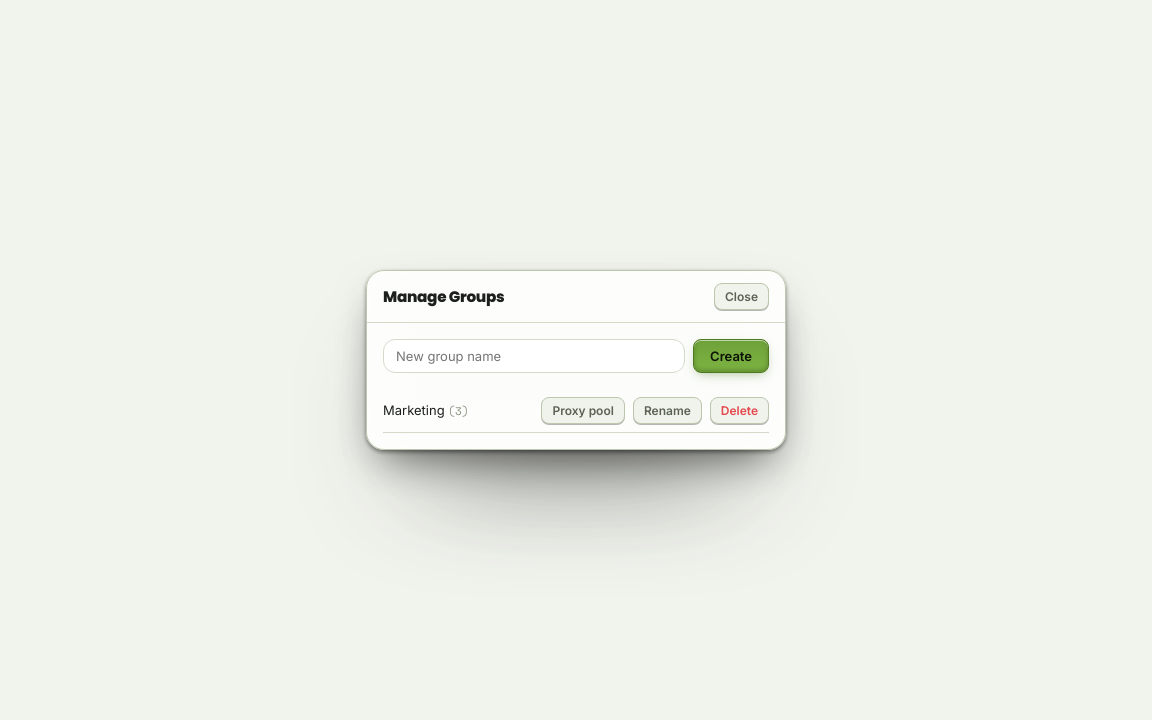
Test: GroupsModal › clicking Rename switches the row to an editable input pre-filled with the current name
The image size is (1152, 720).
What coordinates should you click on to do the following:
click the button "Rename"
I would click on:
 (667, 410)
Its box is [633,397,702,424].
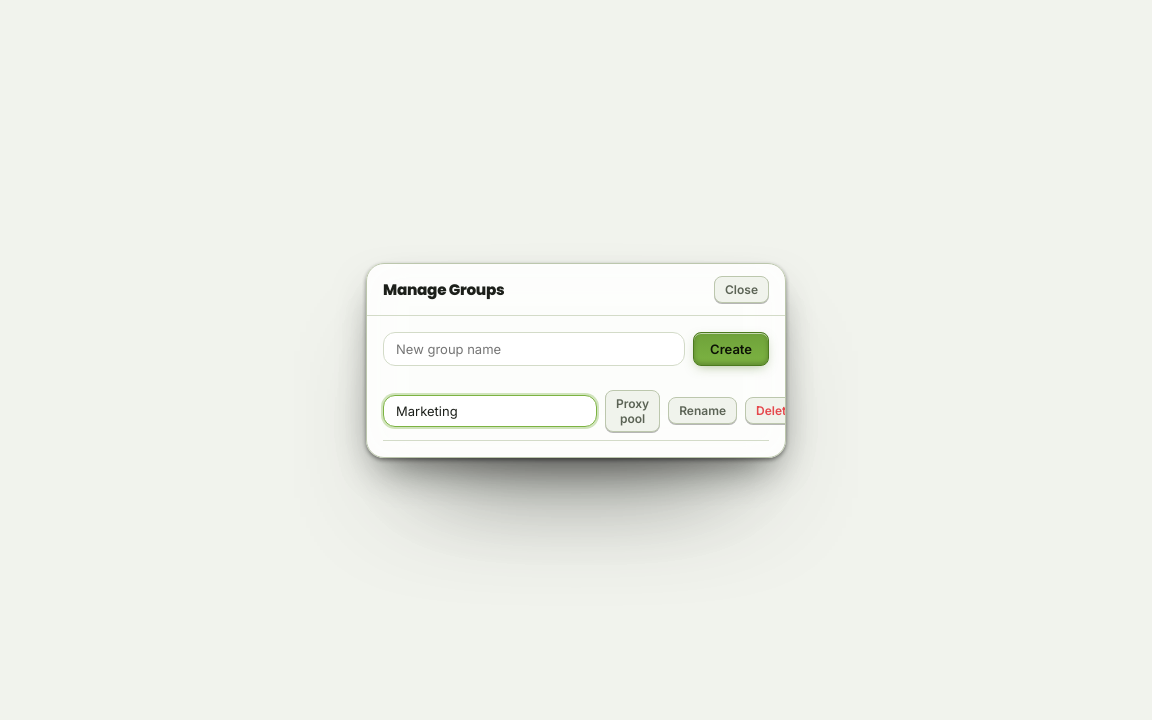
Now the field showing "Marketing" is shown, box [383,394,597,426]
